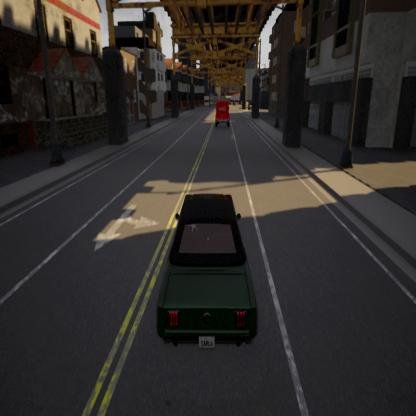Cars: (158, 194, 257, 353), (215, 97, 230, 126)
